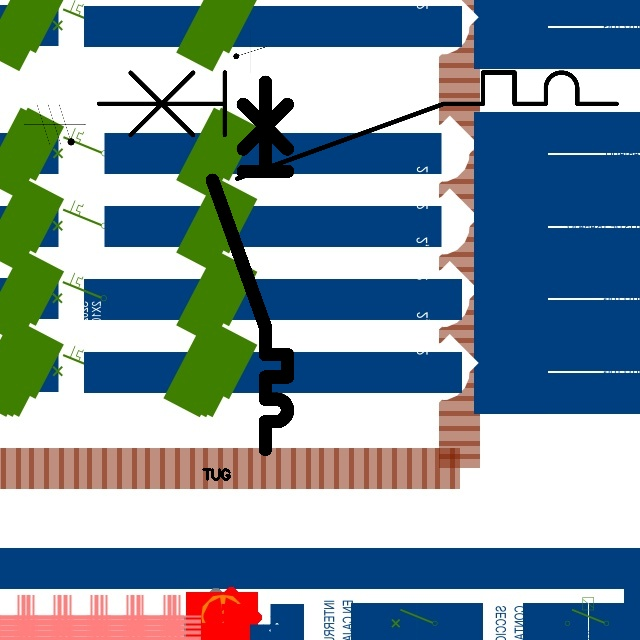interruptor_termomagnetico: (85, 59, 630, 192), (203, 72, 297, 458)
